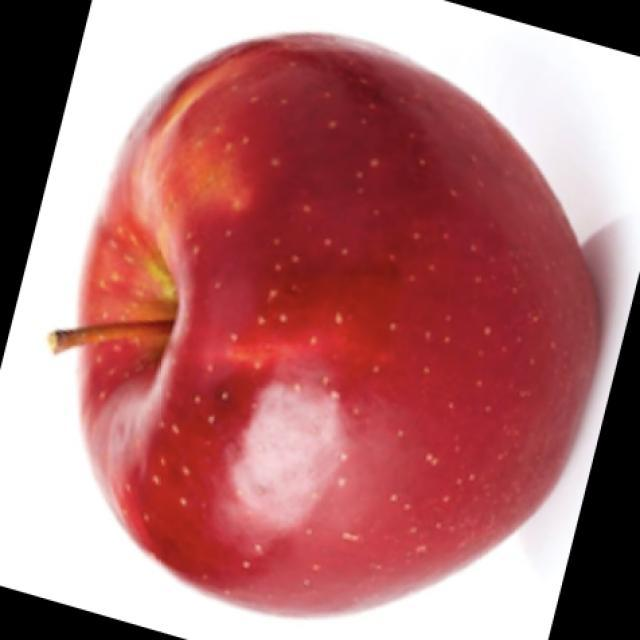Fresh Apple: (85, 48, 602, 592)
